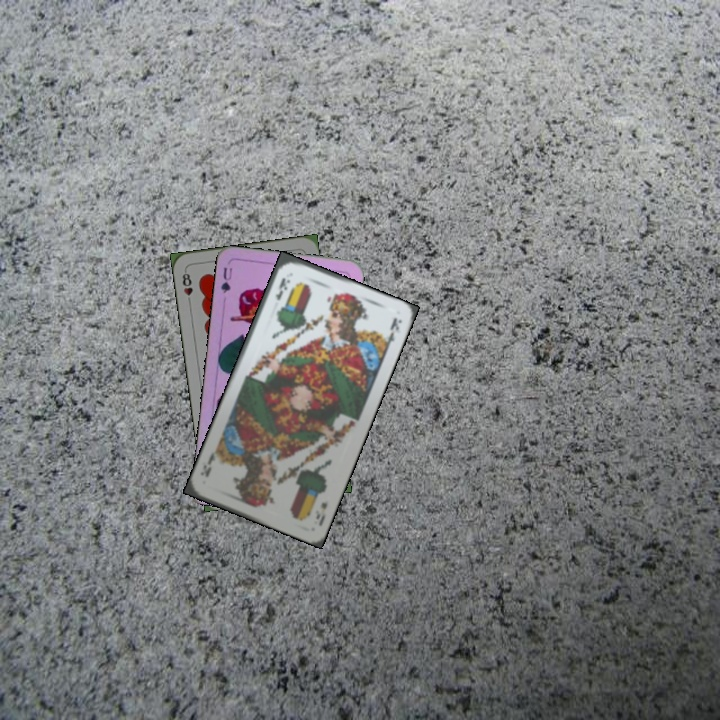EK: (271, 273, 293, 304), (311, 496, 331, 529)
GU: (217, 263, 235, 296)
H8: (178, 267, 195, 307)
